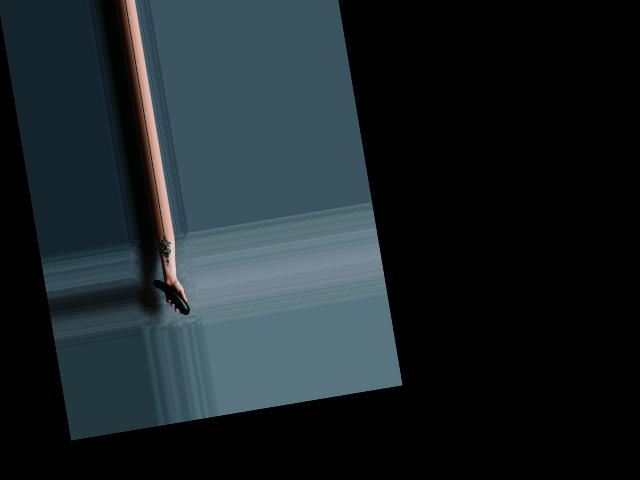cucumber: (152, 275, 190, 319)
